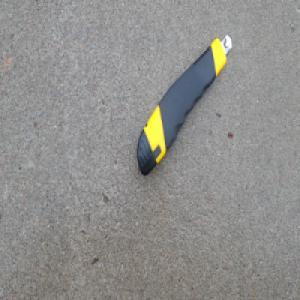Cutter: (136, 33, 232, 178)
